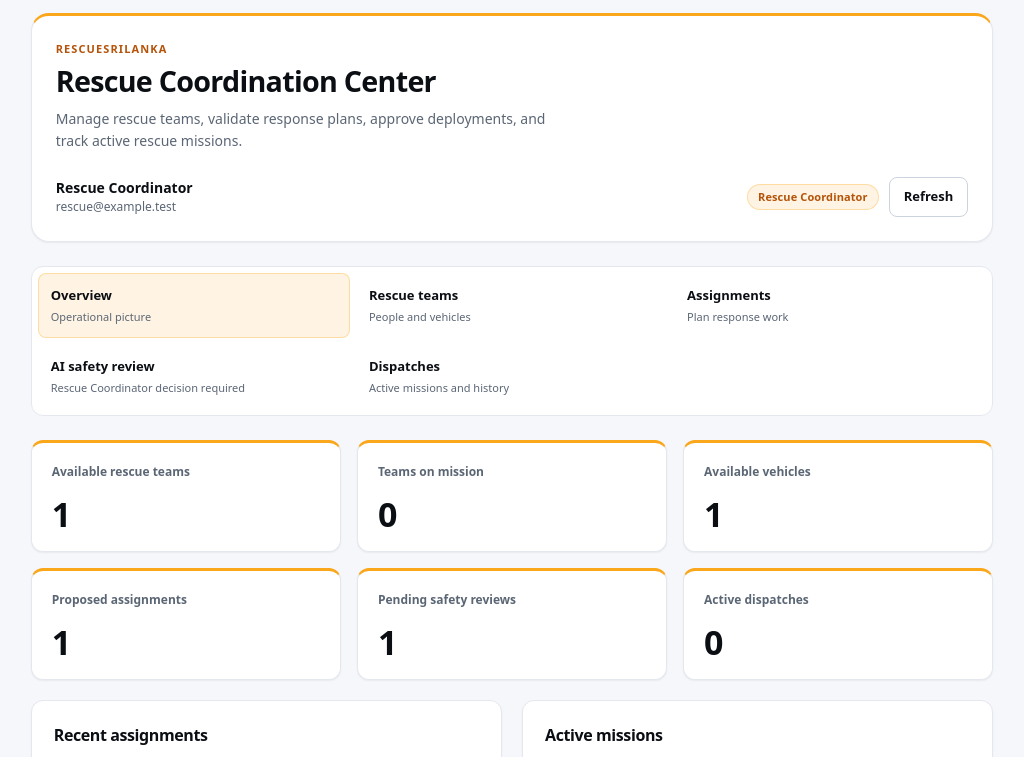
shows actions and loads current Proposed assignment values
Expected: the button "Refresh" is enabled, [889,177,968,217]
Click the button "Assignments Plan response work".
click(729, 295)  # box [674,273,986,338]
(page scrolled)
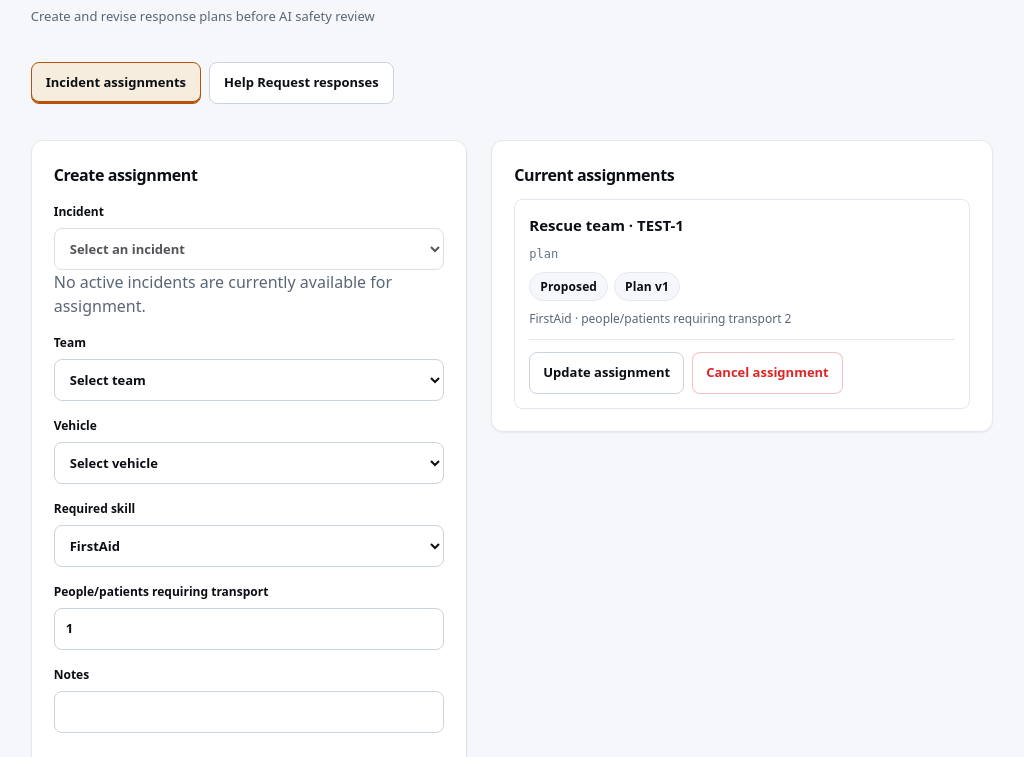
Click the button "Update assignment".
click(607, 373)  # box [529,352,684,394]
(page scrolled)
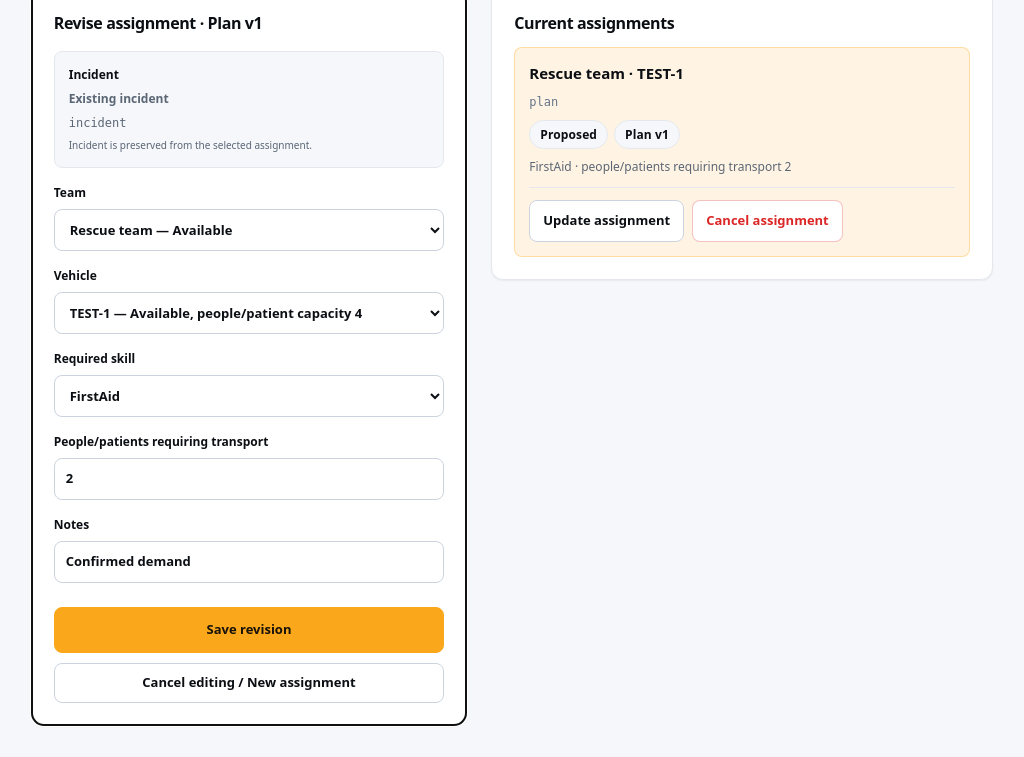
Now the heading "Revise assignment · Plan v1" is shown, box [54,12,262,34]
Now the dropdown labelled "Team" shows "Rescue team — Available", box [54,209,444,251]
Now the dropdown labelled "Vehicle" shows "TEST-1 — Available, people/patient capacity 4", box [54,292,444,334]
